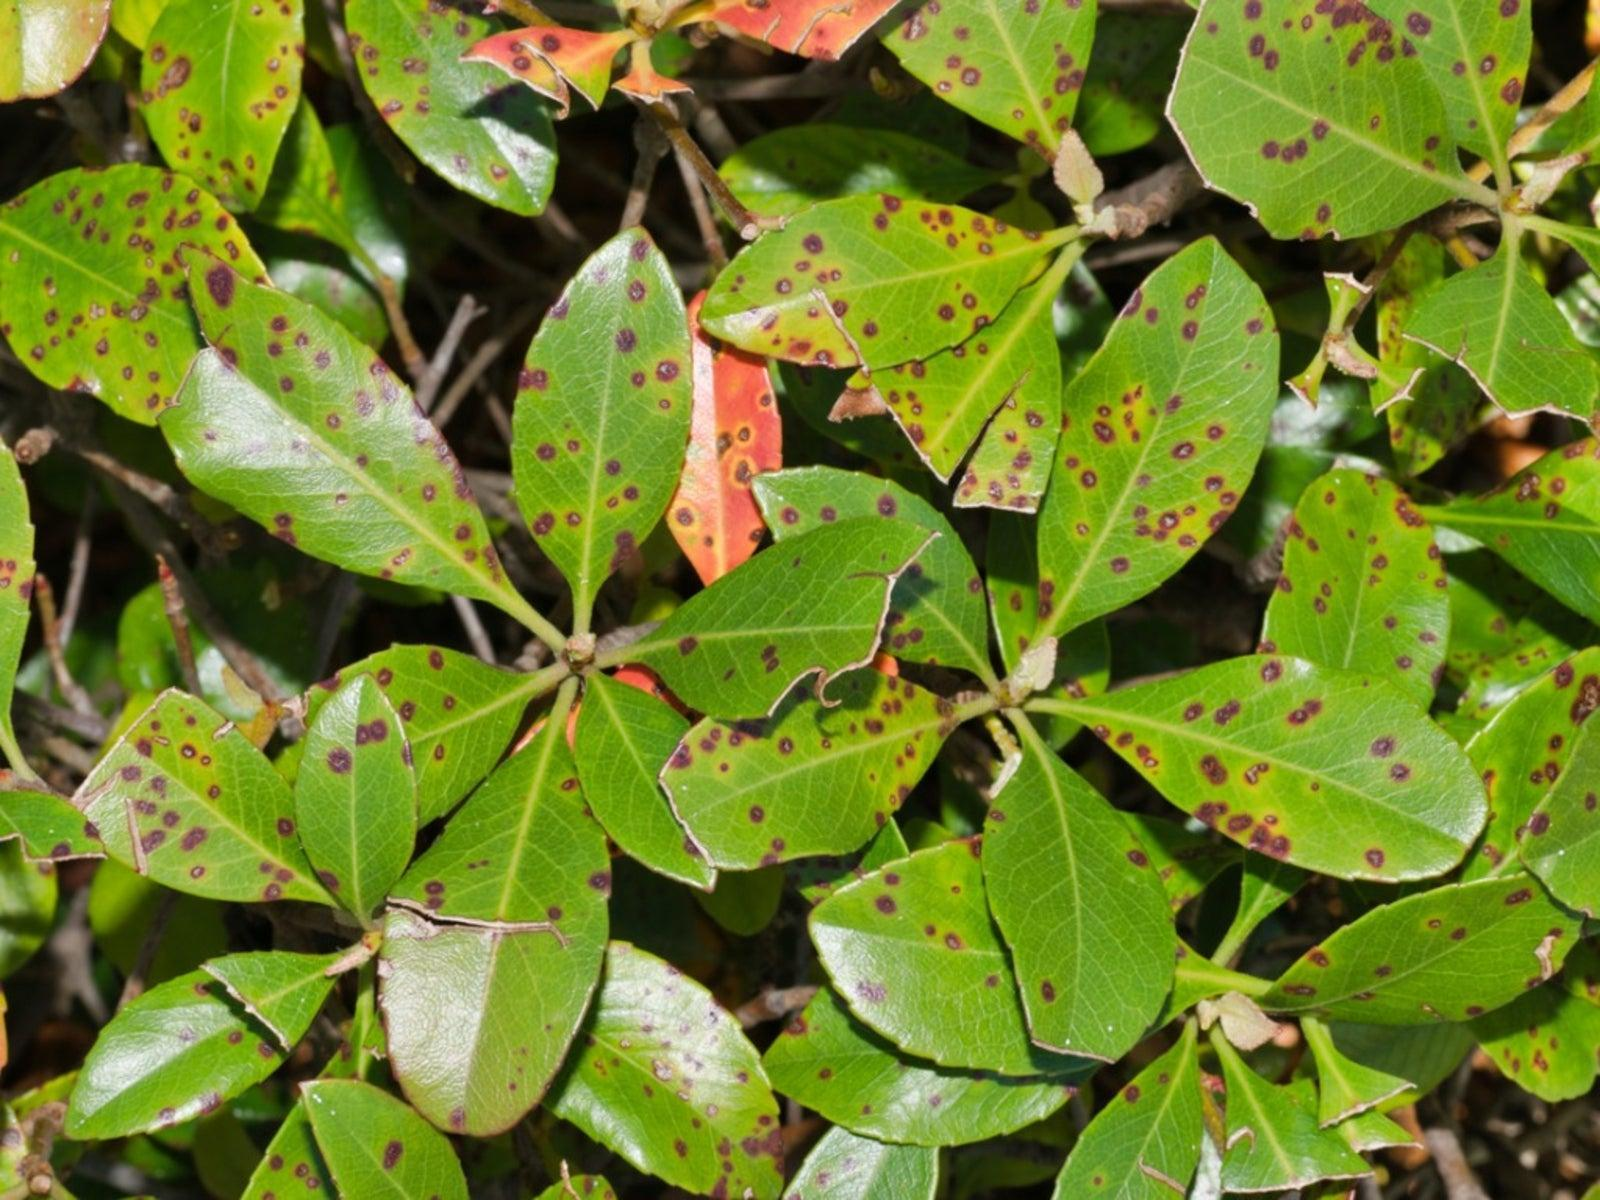black-spot: (1173, 672, 1362, 848), (1077, 362, 1226, 556), (112, 716, 223, 886), (592, 260, 684, 444)
